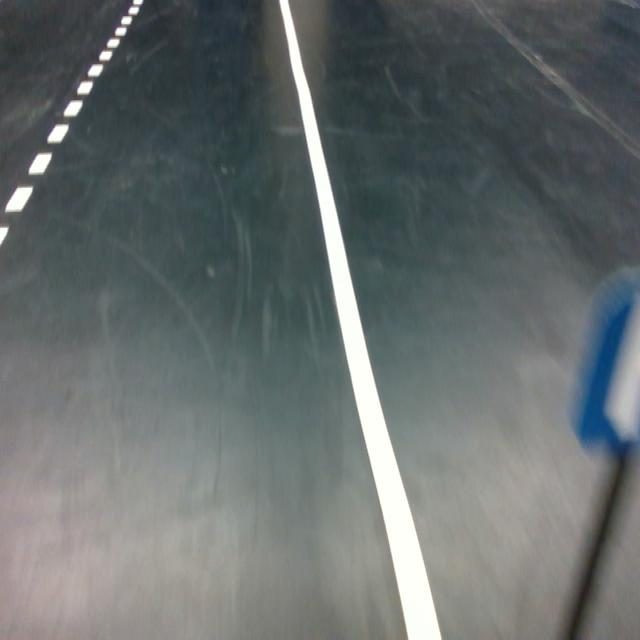parking-sign: (562, 263, 640, 464)
